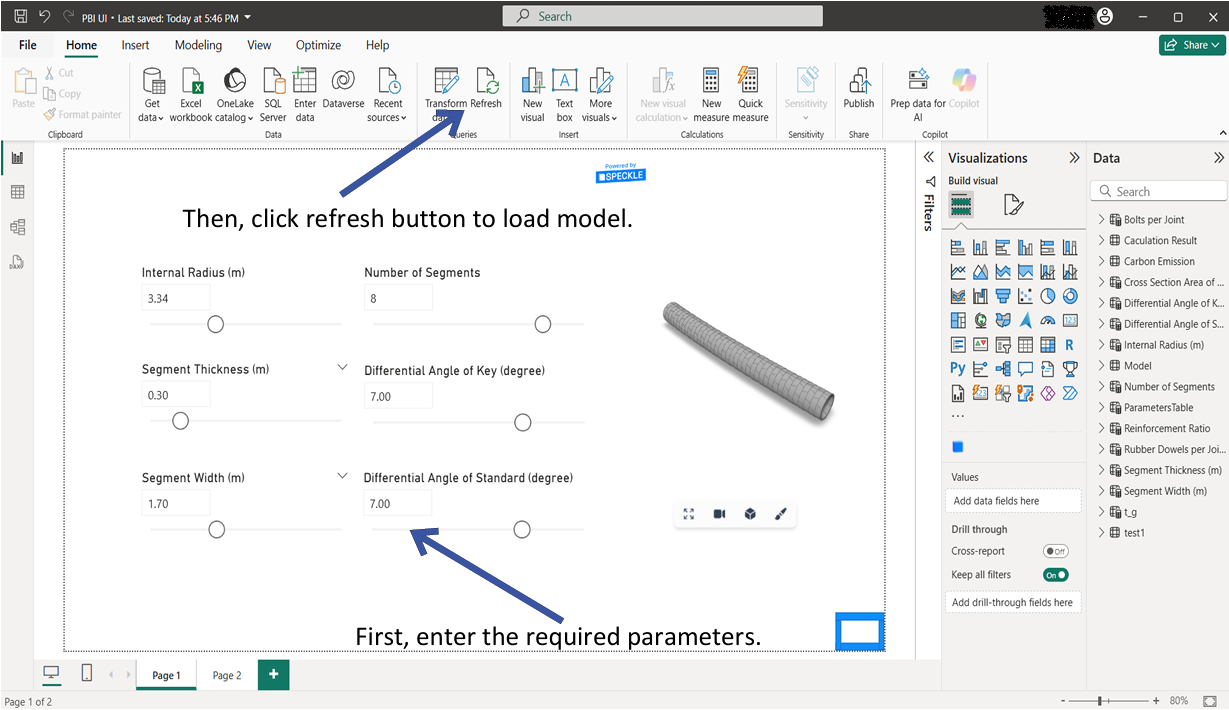

Layout of this report page (visuals, bound fields, positions):
{"tool":"powerbi","page":{"name":"Page 1","canvas":[1280,720],"ordinal":0},"visuals":[{"type":"slicer","fields":{"Values":["Number of Segements.Number of Segements"]},"box":[455.6,155.1,378.7,155.1],"z":0},{"type":"slicer","fields":{"Values":["Internal Radius (m).Internal Radius (m)"]},"box":[107,155.1,347.2,155.1],"z":1000},{"type":"slicer","fields":{"Values":["Segement Thickness (m).Segement Thickness (m)"]},"box":[107,293.7,347.2,156.4],"z":2000},{"type":"slicer","fields":{"Values":["Segement Width (m).Segement Width (m)"]},"box":[107,450.1,347.2,155.1],"z":3000},{"type":"slicer","fields":{"Values":["Differential Angle of Key (degree).Differential Angle of Key (degree)"]},"box":[455.6,296.4,380.1,155.1],"z":4000},{"type":"slicer","fields":{"Values":["Differential Angle of Standard (degree).Differential Angle of Standard (degree)"]},"box":[454.2,450.1,380.1,155.1],"z":5000},{"type":"pythonVisual","fields":{"Values":["Number of Segments.Number of Segments 1","Internal Radius (m).Internal Radius (m) 1","Differential Angle of Standard (degree).Differential Angle of Standard (degree) 1","Differential Angle of Key (degree).Differential Angle of Key (degree) 1","Segment Thickness (m).Segment Thickness (m) 1","Segment Width (m).Segment Width (m) 1"]},"box":[1216.7,676.7,63.3,43.3],"z":6000},{"type":"specklePowerBiVisual","fields":{"parentObject":["Model.Version Object ID"],"object":["Model.Object ID"],"stream":["Model.Model URL"]},"box":[824.2,8.6,446.3,563.7],"z":7000},{"type":"shape","box":[1203.3,665,76.7,11.7],"z":7002},{"type":"shape","box":[1203.8,708.8,76.2,11.2],"z":7003},{"type":"shape","box":[1271.1,676.7,8.9,43.3],"z":7004},{"type":"shape","box":[1203.3,676.7,8.9,43.3],"z":7005}]}

Visuals, with their boxes on the page's 1280x720 design canvas (x1, y1, x2, y2). These are canvas units, not pixel positions in the 1229x710 screenshot, which may show the page scaled, cropped or inside an application window:
slicer - Number of Segements.Number of Segements: (456, 155, 834, 310)
slicer - Internal Radius (m).Internal Radius (m): (107, 155, 454, 310)
slicer - Segement Thickness (m).Segement Thickness (m): (107, 294, 454, 450)
slicer - Segement Width (m).Segement Width (m): (107, 450, 454, 605)
slicer - Differential Angle of Key (degree).Differential Angle of Key (degree): (456, 296, 836, 452)
slicer - Differential Angle of Standard (degree).Differential Angle of Standard (degree): (454, 450, 834, 605)
pythonVisual - Number of Segments.Number of Segments 1 x Internal Radius (m).Internal Radius (m) 1: (1217, 677, 1280, 720)
specklePowerBiVisual - Model.Version Object ID x Model.Object ID: (824, 9, 1270, 572)
shape: (1203, 665, 1280, 677)
shape: (1204, 709, 1280, 720)
shape: (1271, 677, 1280, 720)
shape: (1203, 677, 1212, 720)
